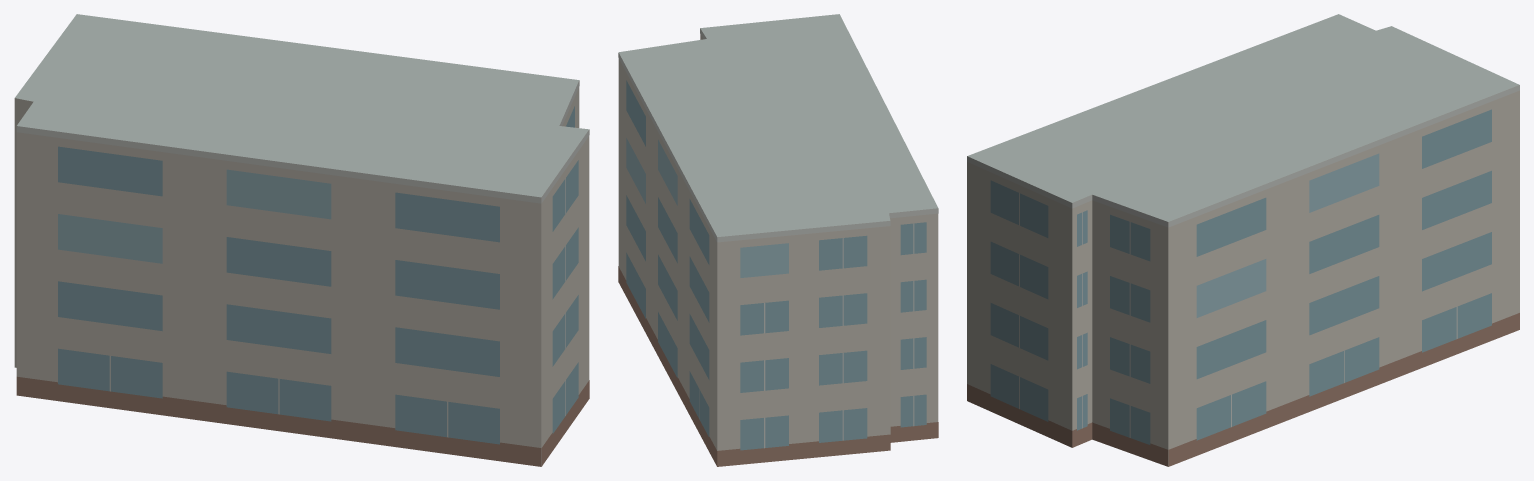
The model's file is survey-upis-32469408.glb.
3 views of the same model, side by side, from view 1: azimuth 30°, elevation 25°; view 2: azimuth 150°, elevation 25°; view 3: azimuth 270°, elevation 25° (orthographic). The views are drawn at different scales.
Parts seen in each view (by area): view 1: survey-upis-32469408.tmp; view 2: survey-upis-32469408.tmp; view 3: survey-upis-32469408.tmp.
Part boxes in pixels (<box>): survey-upis-32469408.tmp: <box>14,14,589,466</box>; survey-upis-32469408.tmp: <box>618,14,938,466</box>; survey-upis-32469408.tmp: <box>967,14,1519,466</box>.
Size of the model in its own units: 19.32 by 10.6 by 21.69.
